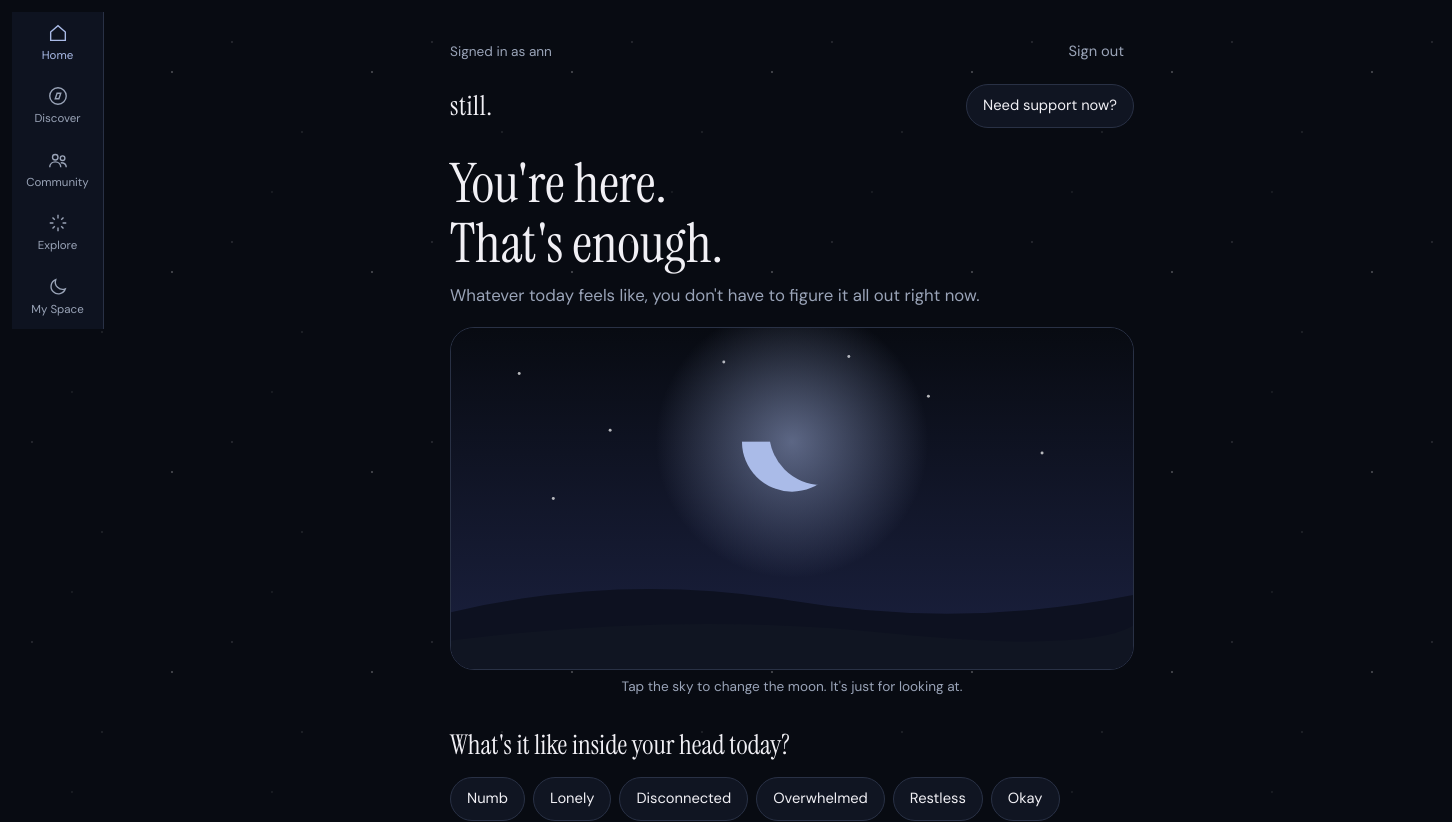
Test: Discover loads older pages from the server on request and never reorders by popularity
The image size is (1452, 822).
expect the text "Signed in as ann" is shown: met, box [450,41,552,63]
Click the button "Discover" at (58, 107), box [12,75,103,139]
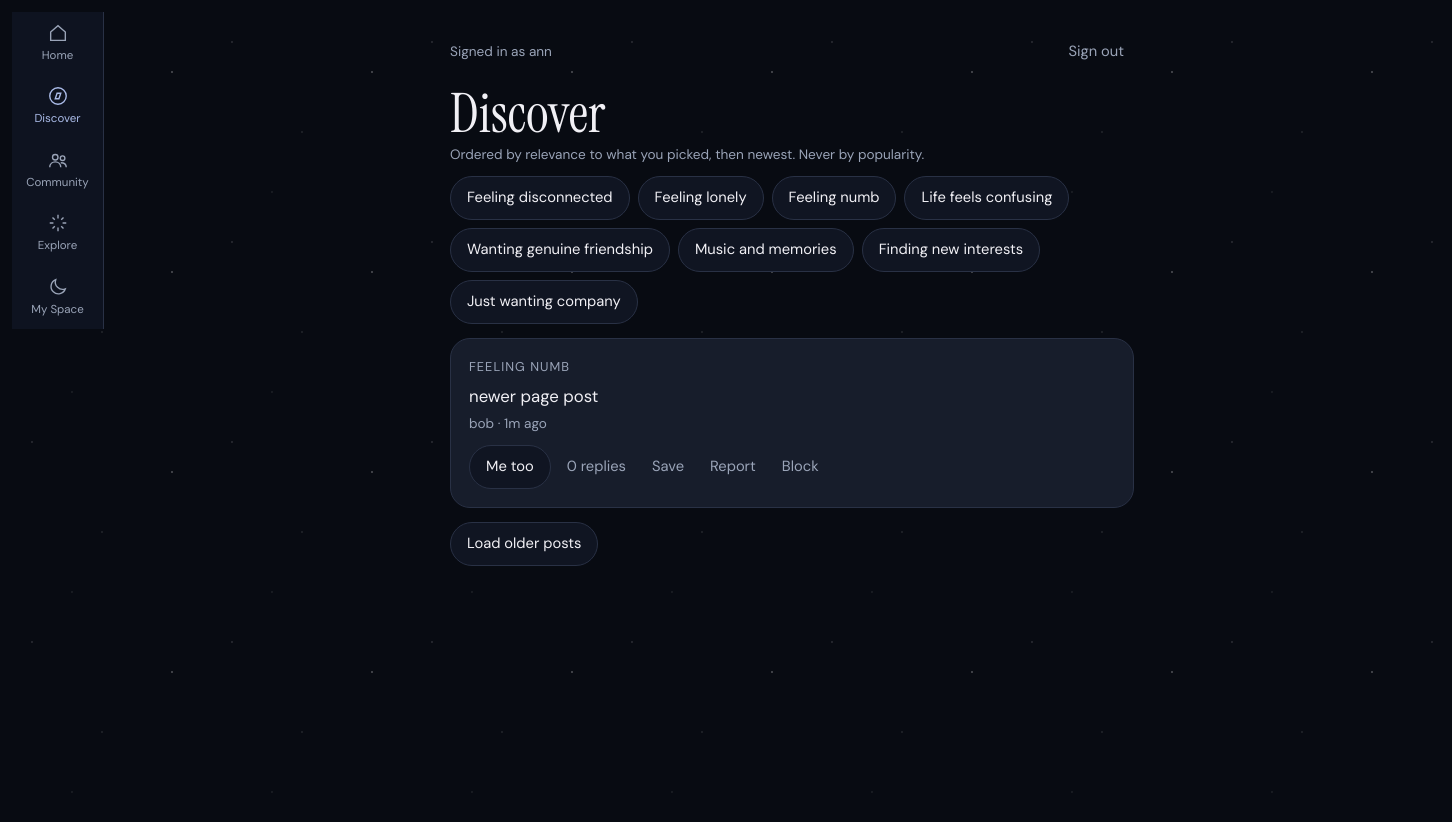
expect the text "newer page post" is shown: met, box [469,385,598,407]
expect the text "older page post" is not shown: met
Click the button "Load older posts" at (524, 544), box [450,522,598,566]
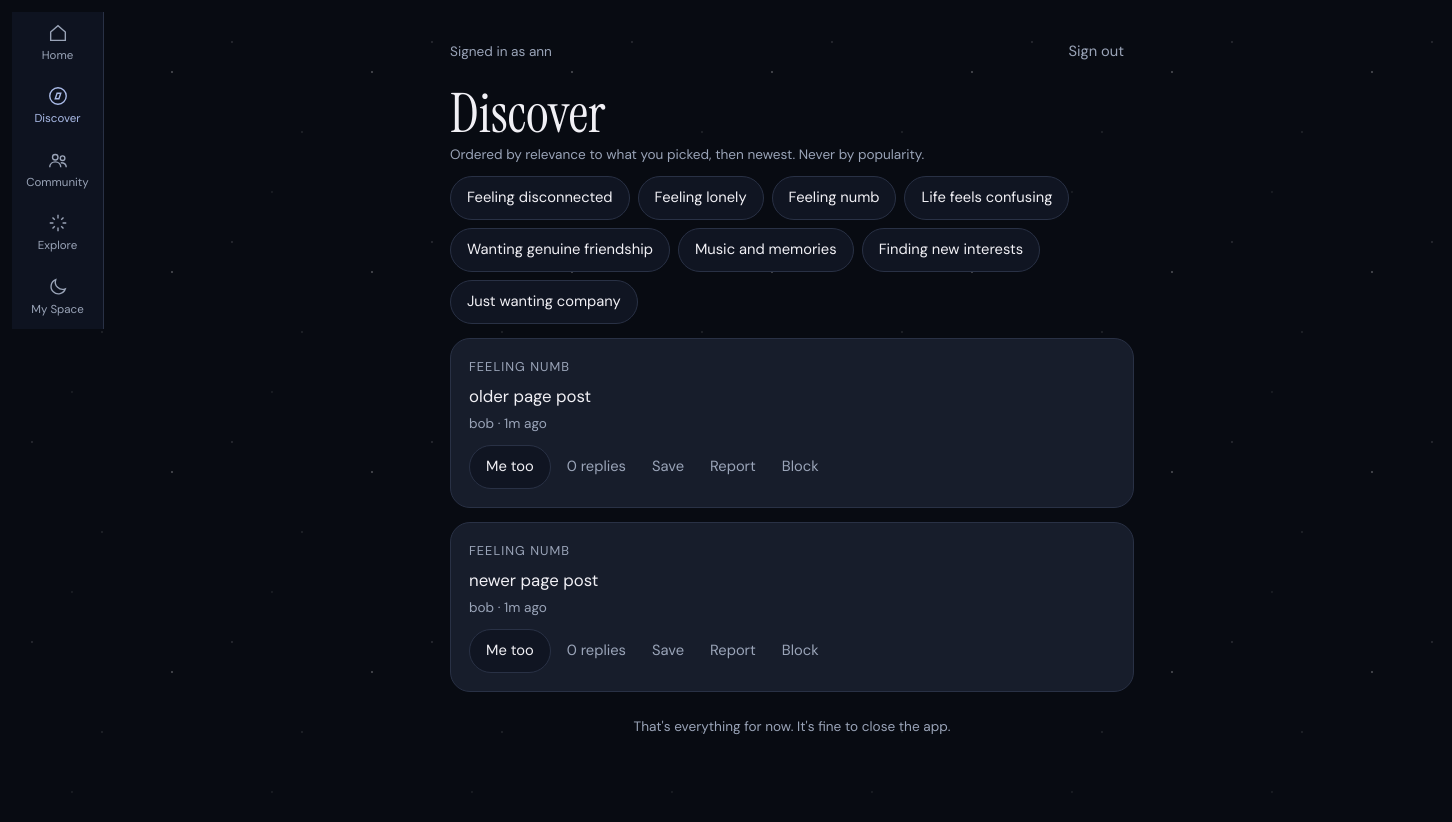
expect the text "older page post" is shown: met, box [469,385,591,407]
expect the button "Load older posts" is gone: met
